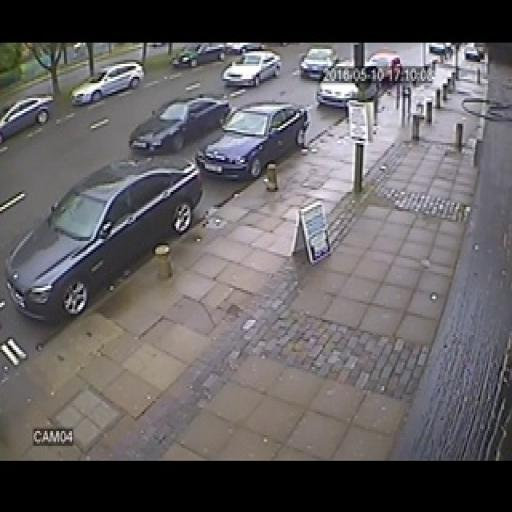Car: (12, 160, 198, 318), (198, 100, 308, 181), (136, 96, 227, 152), (316, 59, 374, 112), (72, 61, 143, 104), (1, 94, 54, 146), (223, 50, 282, 88), (172, 43, 227, 69), (299, 46, 340, 80), (367, 52, 402, 84), (224, 43, 264, 56)
